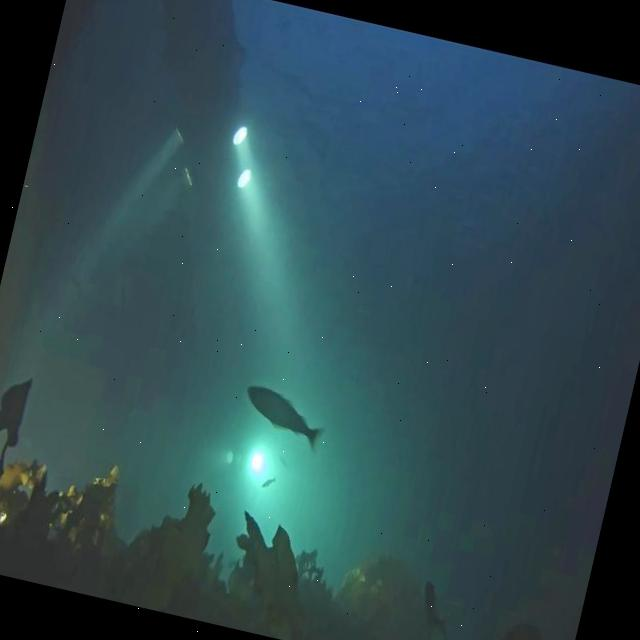fish: (236, 383, 331, 458), (413, 580, 460, 640), (261, 472, 277, 490)
